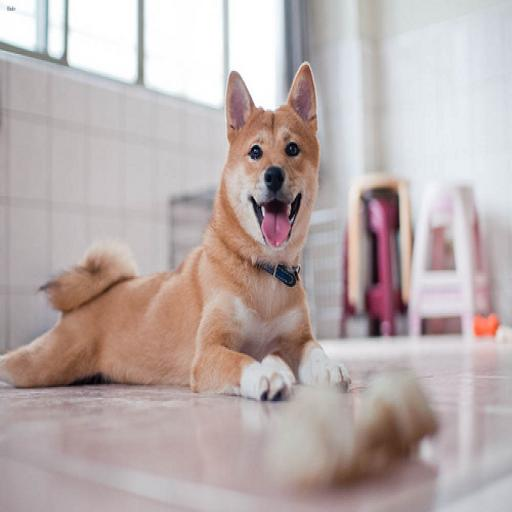dog_face: (224, 70, 319, 262)
